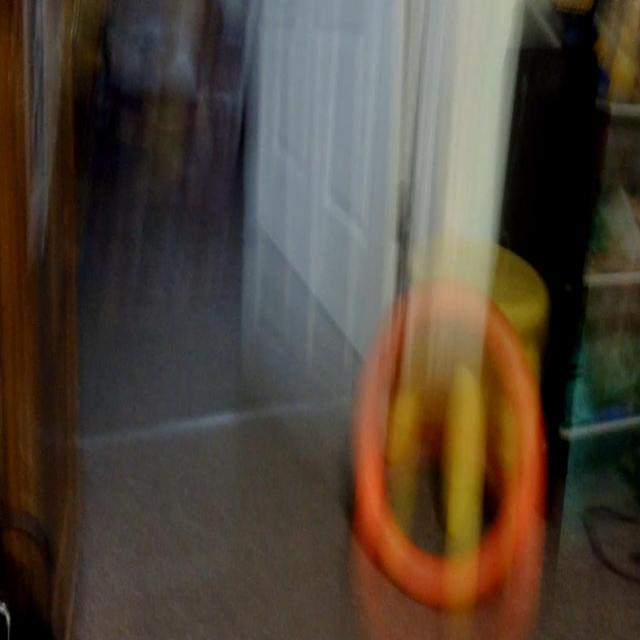note: (350, 274, 544, 612)
